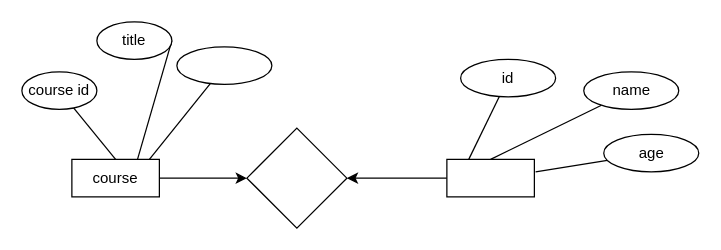
Image size: 721x250. Some labels were removed from this diagram. Here are the shapes that lost their labels. From the top down, the centre of each, then its label:
At pixel 224 65: "taught by id".
At pixel 296 177: "teach".
At pixel 490 177: "teacher".
